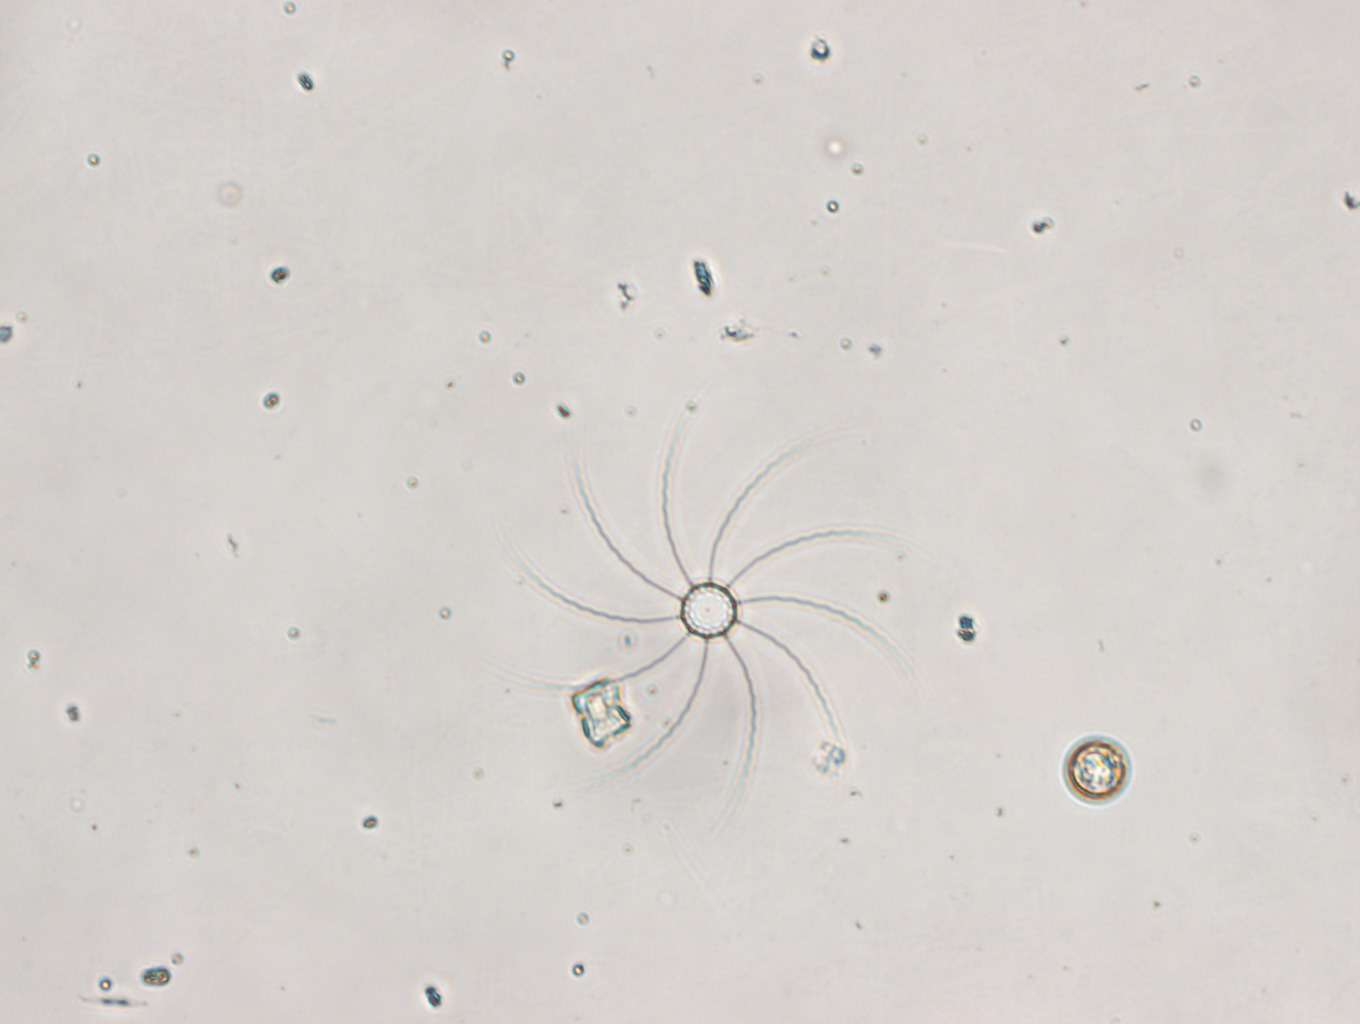bacteriastrum: (506, 392, 917, 812)
